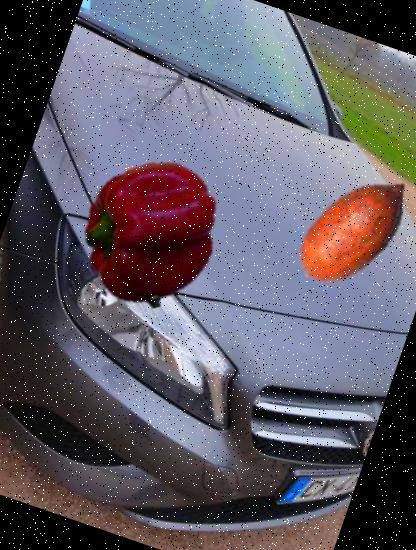Nut: (268, 143, 416, 315)
Pepper: (64, 145, 243, 324)
